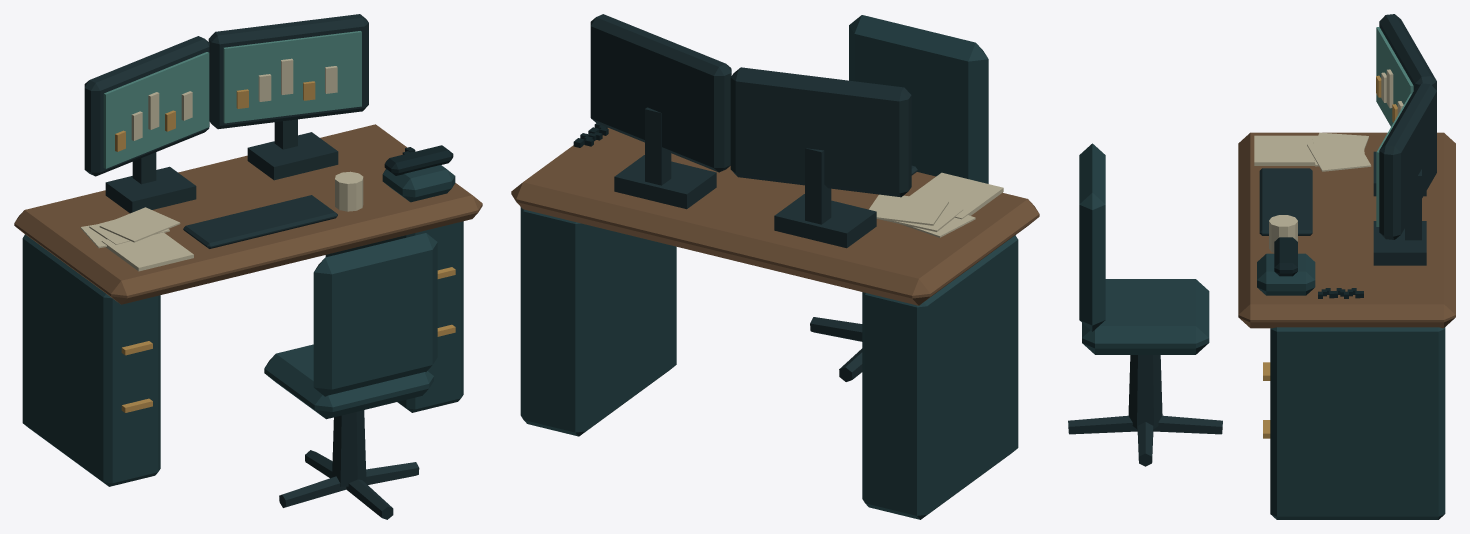
File: workstation.glb
3 renders of one model, left to right at view 1: azimuth 30°, elevation 25°; view 2: azimuth 150°, elevation 25°; view 3: azimuth 270°, elevation 25°, orthographic. The views are drawn at different scales.
Parts seen in each view (by area): view 1: Workstation; view 2: Workstation; view 3: Workstation.
Part boxes in pixels (x1,y1,x2,y2): Workstation: (14,14,482,519); Workstation: (511,14,1039,519); Workstation: (1068,14,1455,519).
Size of the model in its own units: 1.62 by 1.47 by 1.46.
